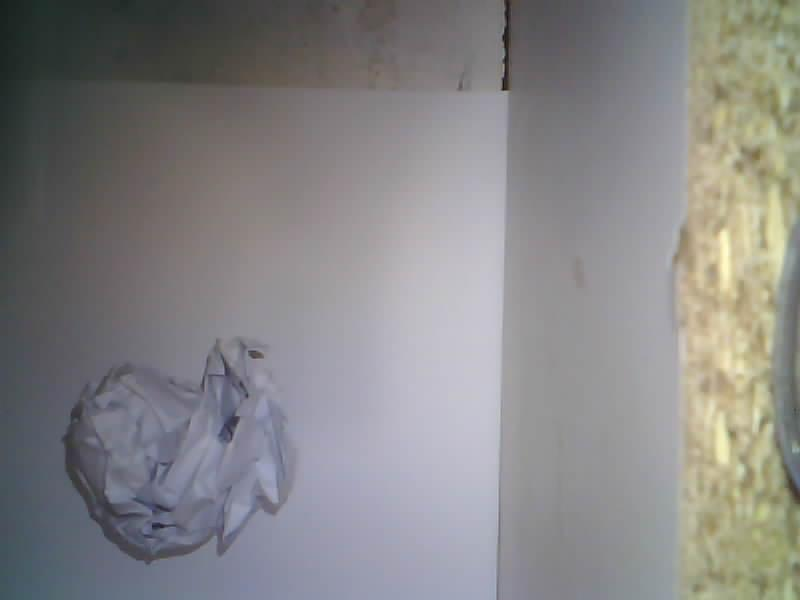biodegradable: (64, 338, 290, 560)
